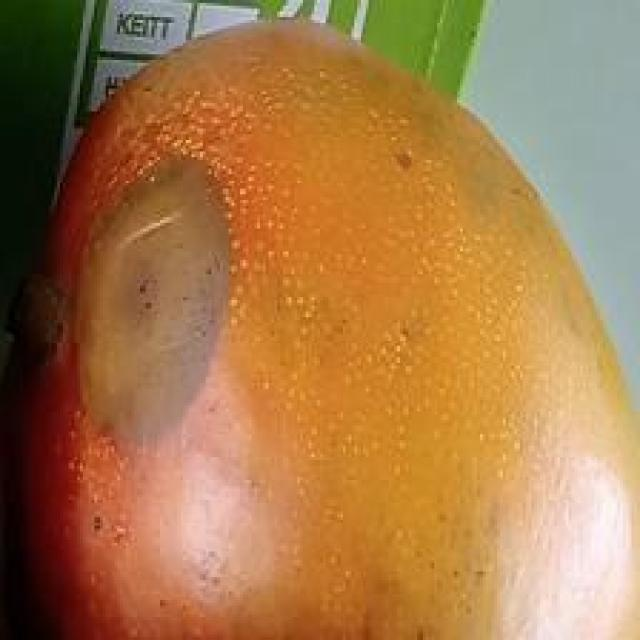Bad_Mango: (15, 22, 640, 639)
